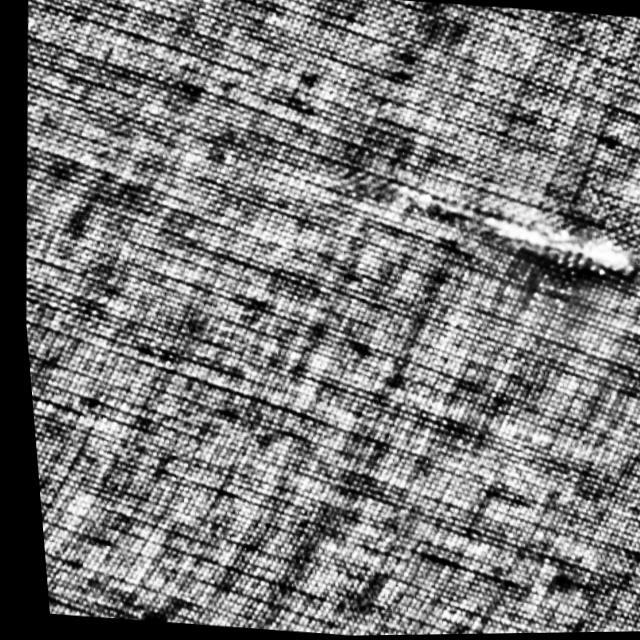Stitch: (400, 187, 640, 297)
